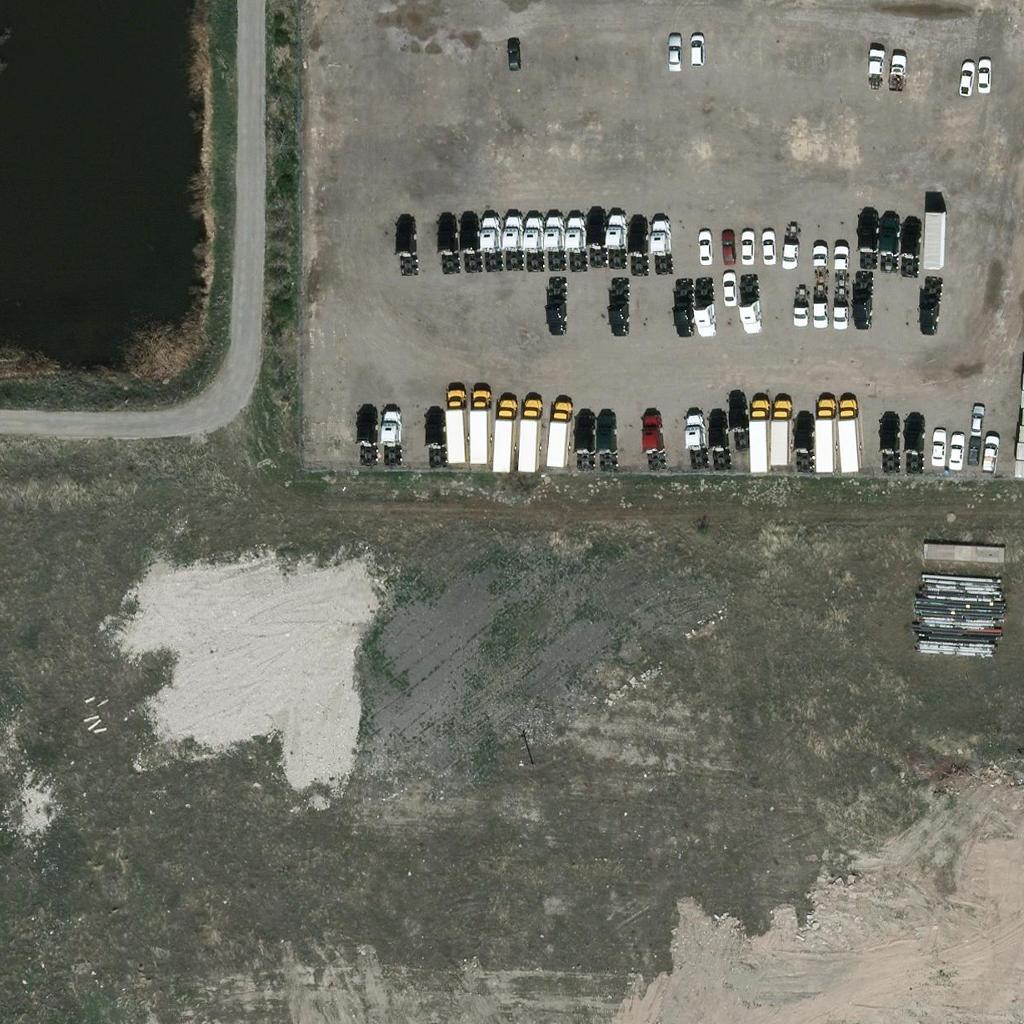car: (677, 36, 711, 70), (495, 37, 529, 71), (655, 37, 689, 71), (965, 60, 999, 94), (947, 61, 981, 95), (686, 232, 720, 266), (710, 232, 744, 266), (728, 232, 762, 266), (750, 232, 784, 266), (801, 244, 835, 278), (822, 245, 856, 279), (710, 272, 744, 306), (781, 294, 815, 328), (802, 294, 836, 328), (822, 295, 856, 329), (958, 405, 992, 439), (919, 432, 953, 466), (956, 434, 990, 468), (971, 434, 1005, 468), (937, 436, 971, 470)
